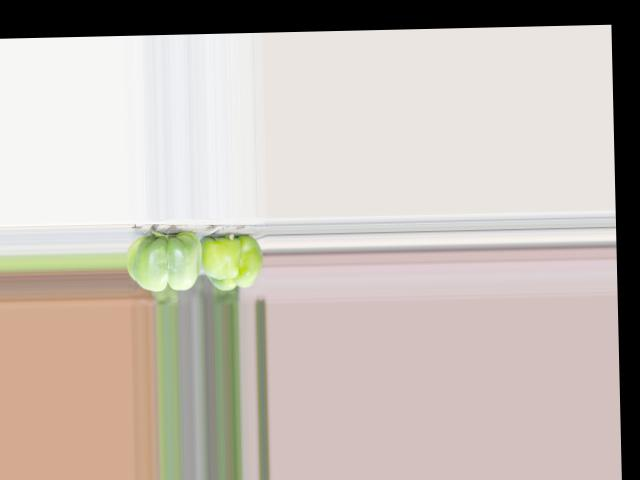bell_pepper: (199, 229, 265, 293)
